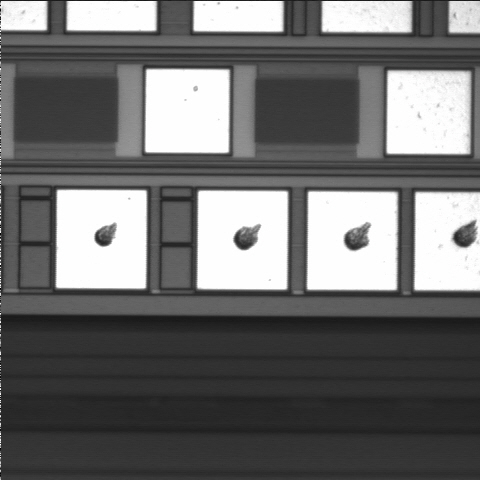pad: (56, 190, 147, 289), (197, 191, 288, 289), (307, 192, 397, 290), (145, 69, 229, 153), (387, 71, 470, 154)
